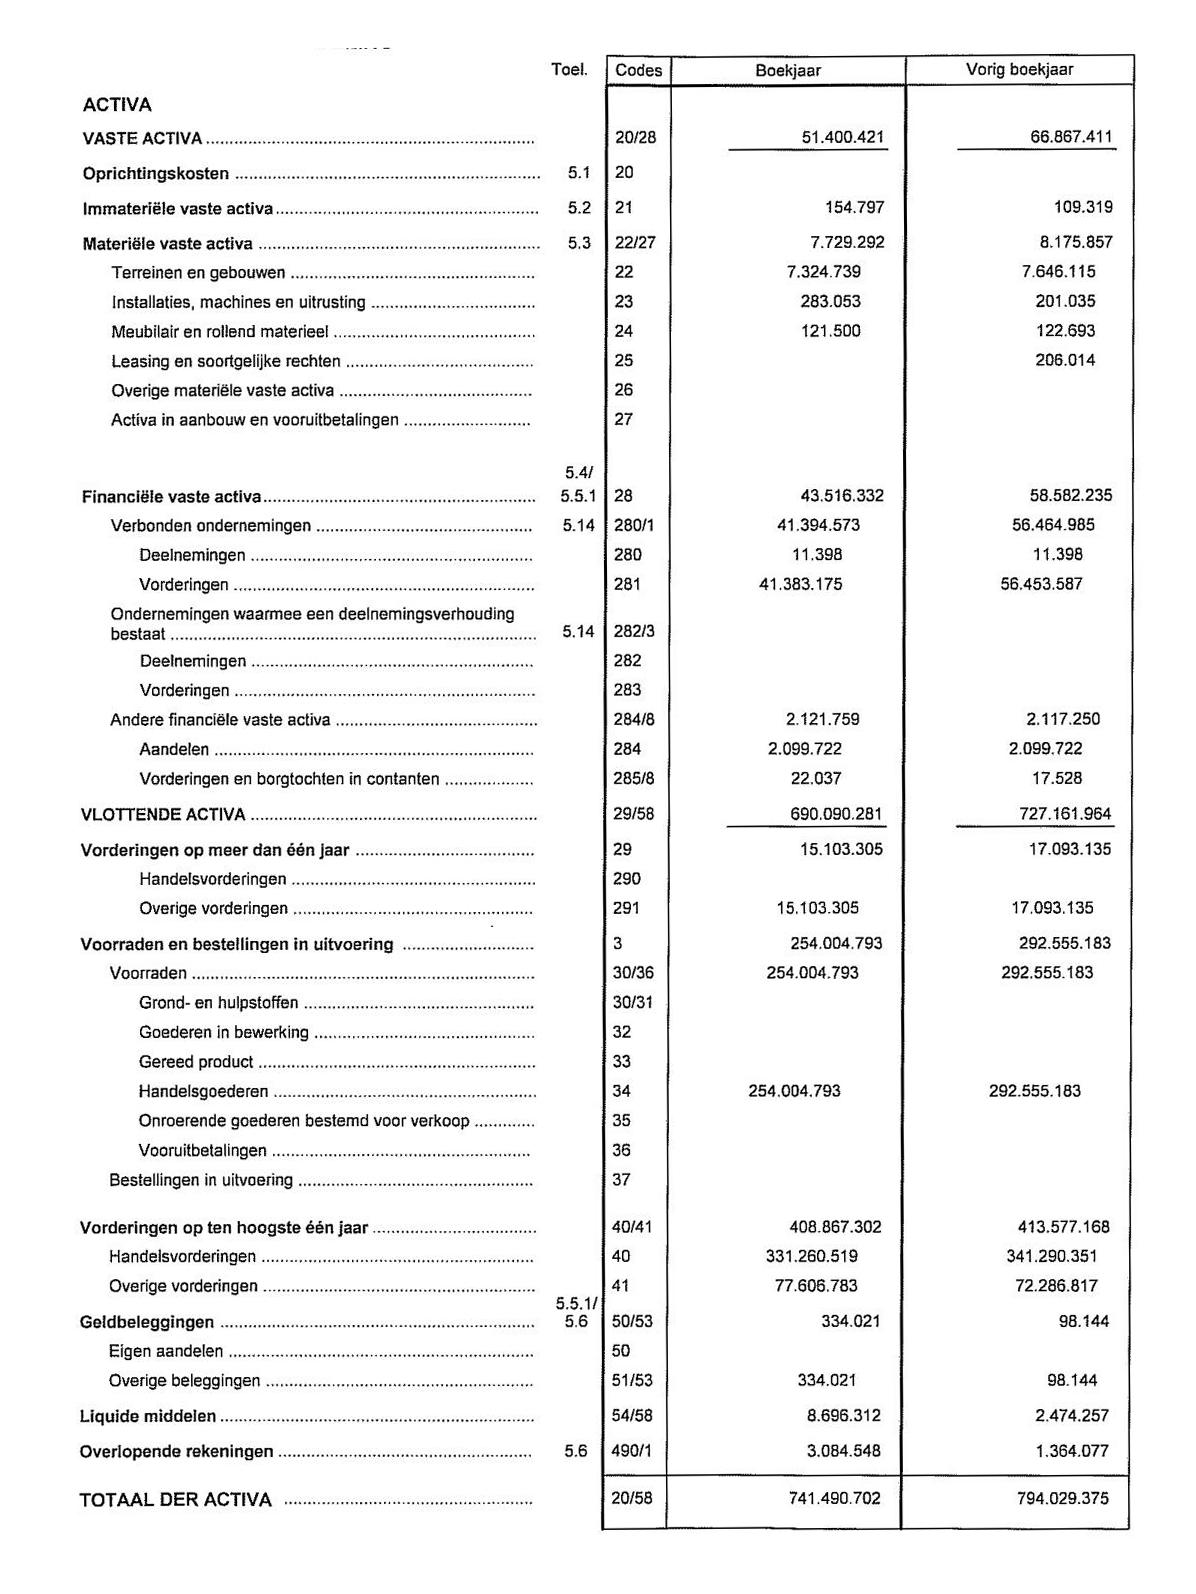table: (46, 49, 1132, 1530)
table column: (57, 52, 606, 1526), (900, 57, 1128, 1531), (673, 54, 901, 1529), (603, 54, 670, 1529)
table column header: (80, 57, 1131, 85)
table row: (70, 435, 1131, 509), (70, 595, 1131, 648), (69, 1473, 1129, 1526), (67, 1195, 1128, 1242), (67, 1296, 1128, 1338), (68, 1429, 1129, 1471), (67, 1393, 1128, 1429), (68, 698, 1129, 732), (73, 794, 1134, 828), (72, 149, 1132, 183), (72, 185, 1132, 219), (74, 829, 1134, 863), (72, 922, 1132, 956), (72, 220, 1133, 252), (74, 762, 1134, 794), (74, 955, 1134, 986), (72, 254, 1133, 284), (72, 285, 1133, 315), (73, 315, 1134, 345), (72, 376, 1133, 406), (73, 404, 1134, 435), (67, 1241, 1128, 1271), (75, 347, 1136, 377), (72, 987, 1132, 1017), (65, 1164, 1126, 1195), (72, 55, 1133, 84), (72, 90, 1133, 119), (72, 1104, 1133, 1133), (67, 1136, 1128, 1164), (67, 1365, 1128, 1394), (69, 121, 1129, 149), (69, 565, 1129, 594), (70, 891, 1131, 919), (72, 1074, 1132, 1103), (68, 510, 1129, 538), (72, 734, 1133, 761), (72, 1045, 1133, 1073), (72, 538, 1132, 565), (74, 864, 1134, 892), (72, 1017, 1132, 1045), (67, 1336, 1128, 1362), (72, 648, 1132, 673), (70, 673, 1131, 698), (67, 1271, 1128, 1294)
